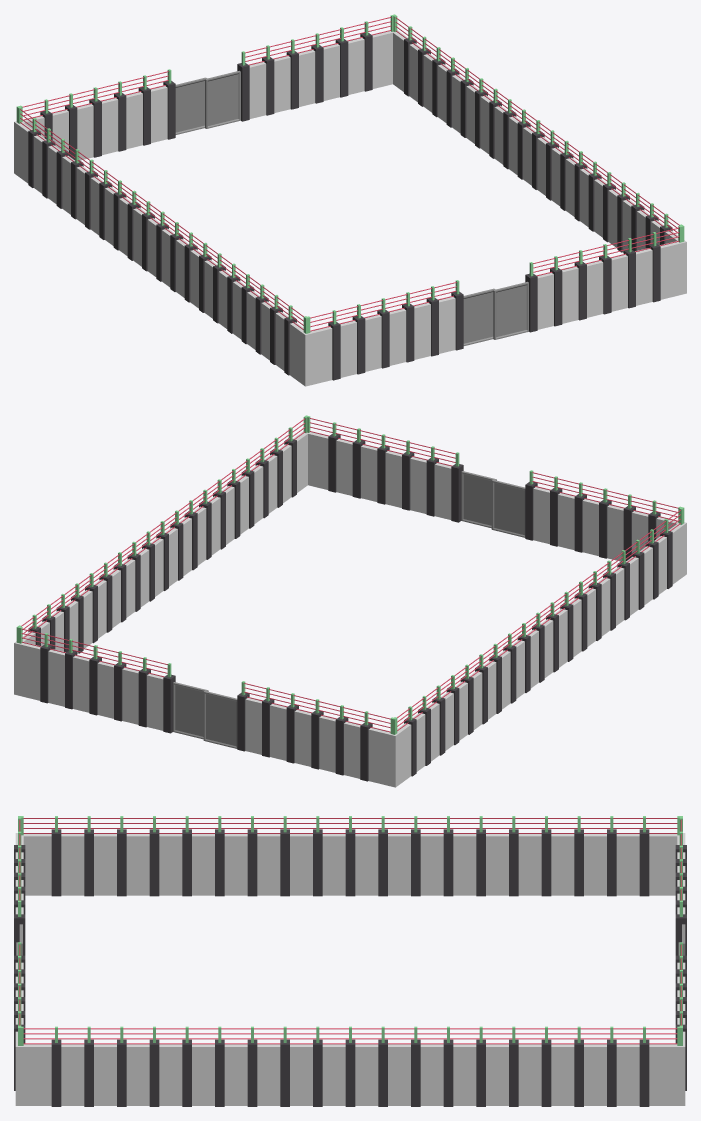
File: PrisonYard.fbx
3 views of the same model, one above another, from view 1: azimuth 30°, elevation 25°; view 2: azimuth 150°, elevation 25°; view 3: azimuth 270°, elevation 25° (orthographic). The views are drawn at different scales.
Parts seen in each view (by area): view 1: WallCorner_04, WallCorner_01, WallCorner_02, Gate_01.001, Gate_01, Gate_02, Gate_02.001, WallCorner_03, Wall_13.002, Wall_05, Wall_01, Wall_01.001 (+52 smaller); view 2: WallCorner_03, WallCorner_01, Gate_02, Gate_02.001, WallCorner_02, Gate_01, Gate_01.001, WallCorner_04, Wall_09.002, Wall_01, Wall_05, Wall_09.001 (+49 smaller); view 3: WallCorner_02, WallCorner_01, WallCorner_04, WallCorner_03, Wall_02, Wall_12, Wall_10, Wall_04, Wall_10.001, Wall_10.003, Wall_10.004, Wall_04.001 (+68 smaller).
Part boxes in pixels (box(x1,y1,x2,y2)): WallCorner_04: box(289, 310, 340, 386); WallCorner_01: box(648, 224, 686, 302); WallCorner_02: box(372, 14, 408, 91); Gate_01.001: box(205, 70, 240, 128); Gate_01: box(493, 281, 528, 339); Gate_02: box(463, 288, 495, 345); Gate_02.001: box(175, 77, 206, 134); WallCorner_03: box(14, 101, 45, 183); Wall_13.002: box(388, 308, 406, 365); Wall_05: box(249, 61, 266, 118); Wall_01: box(537, 272, 553, 329); Wall_01.001: box(562, 266, 578, 323); WallCorner_03: box(367, 713, 411, 787); WallCorner_01: box(293, 415, 340, 492); Gate_02: box(491, 480, 525, 537); Gate_02.001: box(203, 691, 237, 748); WallCorner_02: box(14, 617, 40, 700); Gate_01: box(461, 471, 496, 528); Gate_01.001: box(173, 682, 208, 739); WallCorner_04: box(648, 500, 686, 584); Wall_09.002: box(294, 709, 312, 766); Wall_01: box(434, 462, 451, 519); Wall_05: box(147, 673, 163, 730); Wall_09.001: box(270, 703, 286, 760); WallCorner_02: box(646, 1025, 685, 1105); WallCorner_01: box(14, 1011, 51, 1105); WallCorner_04: box(14, 816, 51, 895); WallCorner_03: box(649, 816, 685, 895); Wall_02: box(61, 1044, 84, 1105); Wall_12: box(61, 834, 84, 895); Wall_10: box(126, 834, 149, 895); Wall_04: box(126, 1044, 149, 1105); Wall_10.001: box(159, 834, 182, 895); Wall_10.003: box(224, 834, 247, 895); Wall_10.004: box(257, 834, 280, 895); Wall_04.001: box(159, 1044, 182, 1105).
Bounding box in the file's own units: 31.2 × 5.2 × 41.2.
